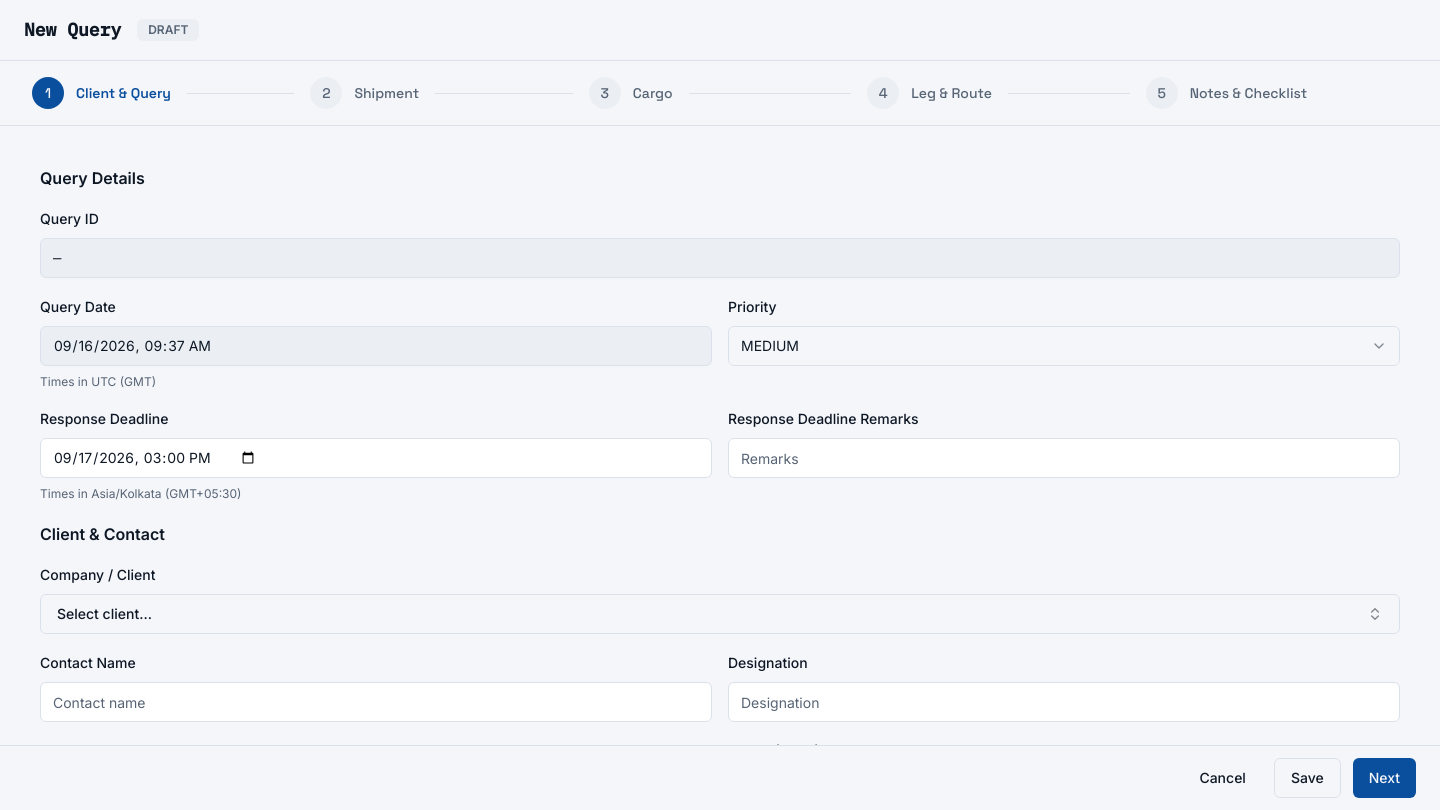
Test: QueryWizardPage › mints the Query ID on first Save of a new query and switches to edit
// The Save button should be present on Step 1
Click the button "Save". click: click(1307, 778)
box: [1274,758,1341,798]
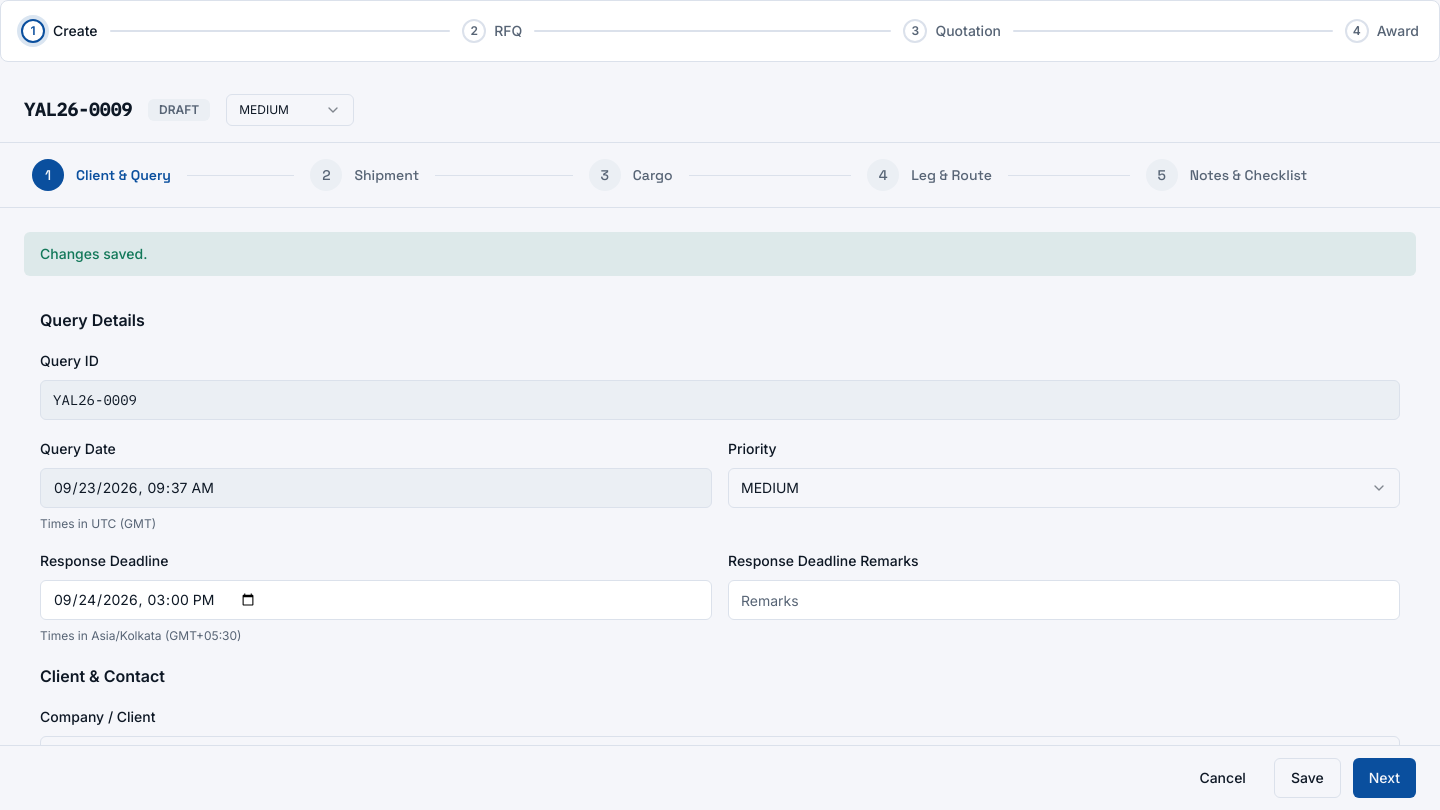
Check: the text "YAL26-0009" is shown, box [24,98,132,121]
